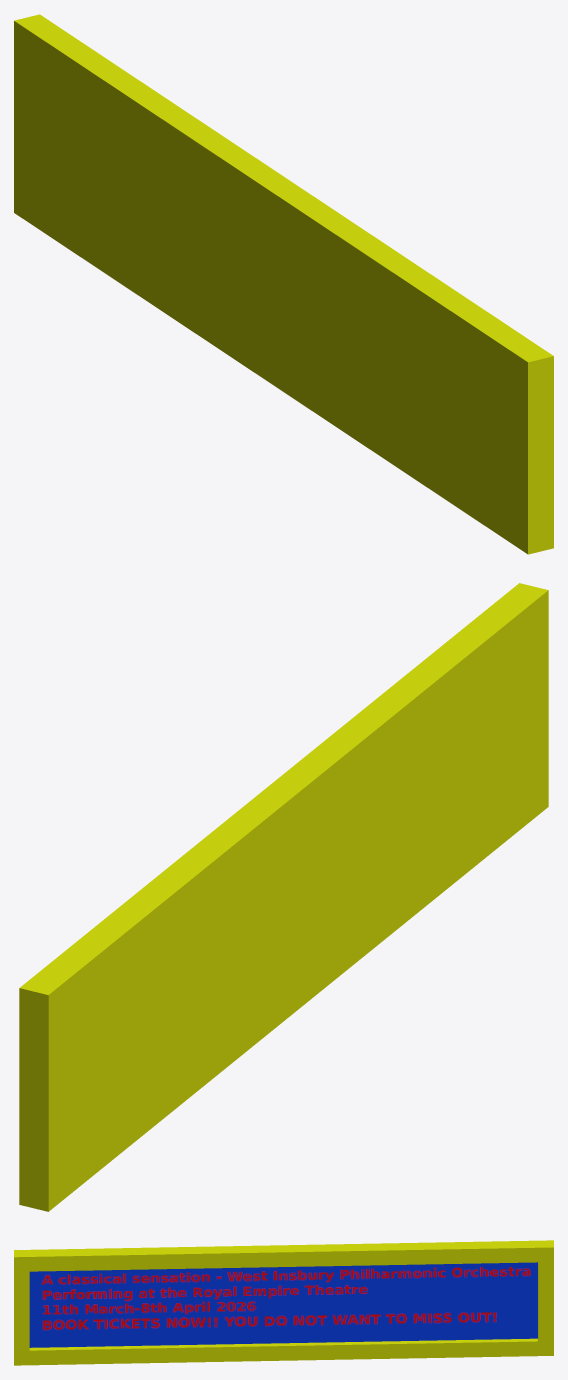
Rendered from MainSign.fbx.
3 views of the same model, one above another, from view 1: azimuth 30°, elevation 25°; view 2: azimuth 150°, elevation 25°; view 3: azimuth 270°, elevation 25° (orthographic). The views are drawn at different scales.
Parts seen in each view (by area): view 1: MainSign_LOD0; view 2: MainSign_LOD0; view 3: MainSign_LOD0.
Boxes of the visible parts, x1=… form: MainSign_LOD0: x1=14, y1=14, x2=553, y2=554; MainSign_LOD0: x1=19, y1=583, x2=548, y2=1211; MainSign_LOD0: x1=14, y1=1240, x2=553, y2=1365.
Size of what is drawn, in the model's own units: 90.86 by 272 by 1230.
